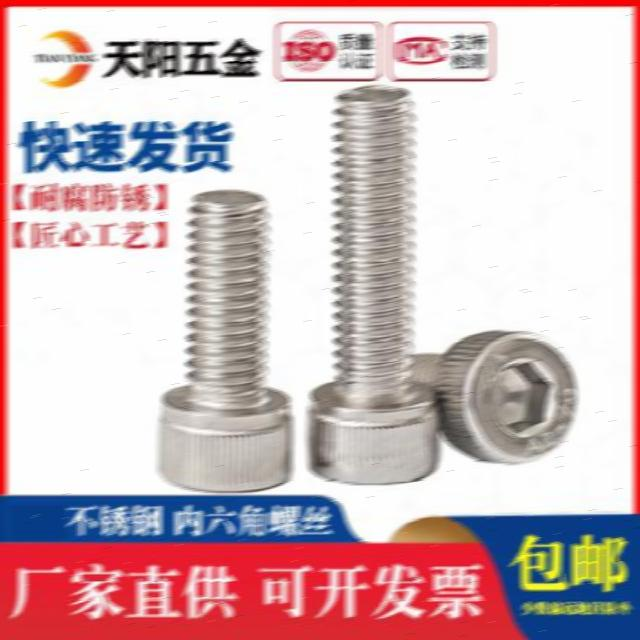Bolt: (307, 83, 445, 486), (160, 183, 296, 491), (414, 329, 582, 465)
